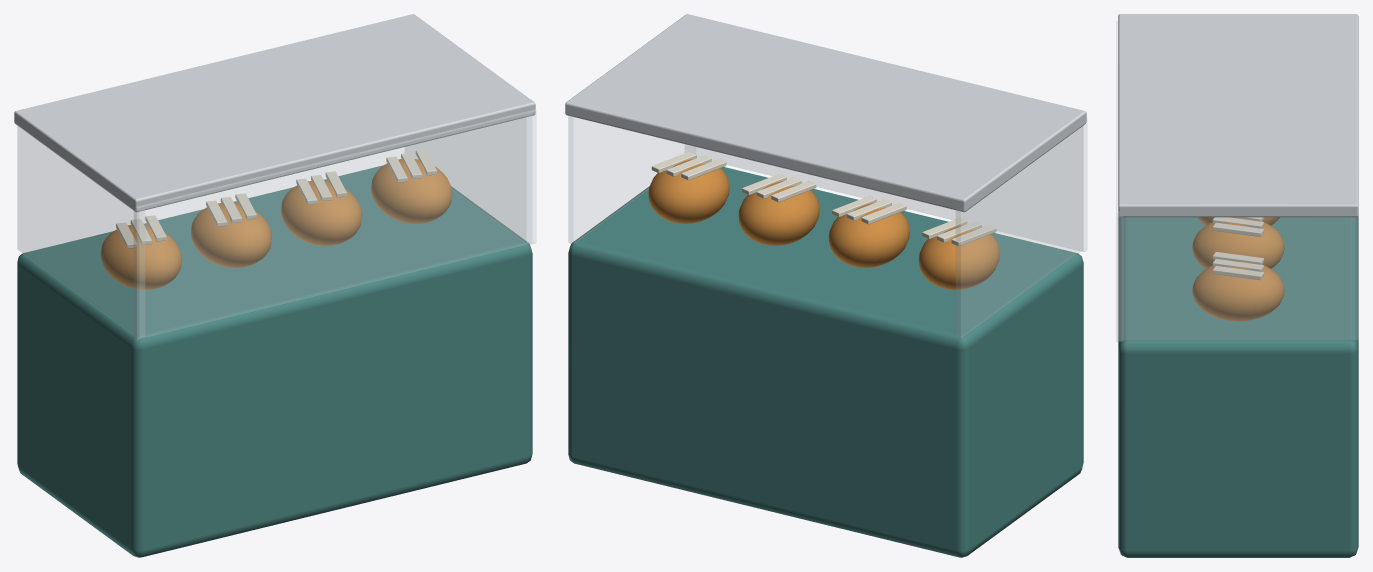
The model's file is wp-vitrine-refrigeree.glb.
The picture shows the model from 3 angles, left to right: view 1: azimuth 30°, elevation 25°; view 2: azimuth 150°, elevation 25°; view 3: azimuth 270°, elevation 25°; orthographic projection.
Parts seen in each view (by area): view 1: wp-vitrine-refrigeree; view 2: wp-vitrine-refrigeree; view 3: wp-vitrine-refrigeree.
Boxes of the visible parts, <box> form: wp-vitrine-refrigeree: <box>14,14,536,557</box>; wp-vitrine-refrigeree: <box>565,14,1087,557</box>; wp-vitrine-refrigeree: <box>1116,14,1358,557</box>.
Bounding box in the file's own units: 1.5 × 1.3 × 0.8.
